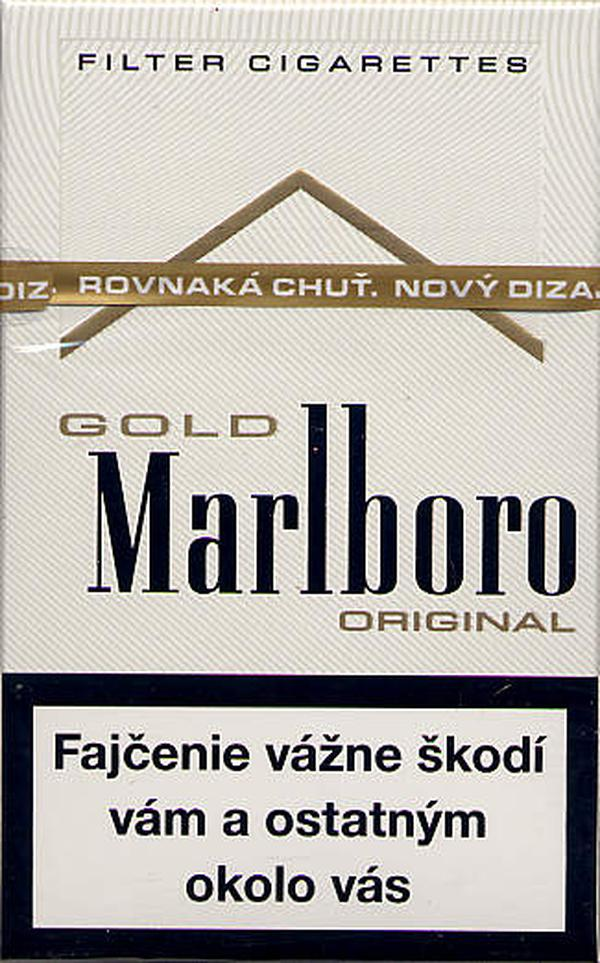marlboro_gold: (1, 7, 599, 963)
